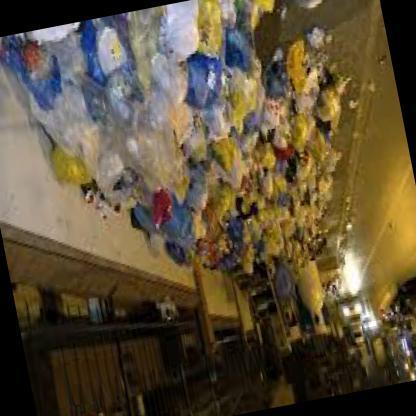Garbage: (16, 0, 343, 204), (114, 15, 374, 258), (100, 40, 218, 173), (201, 142, 329, 260), (238, 69, 348, 198), (68, 13, 147, 88), (33, 90, 95, 160), (53, 148, 112, 200), (184, 44, 228, 110), (236, 0, 283, 46), (316, 76, 348, 124), (298, 173, 332, 215), (168, 204, 200, 248), (286, 0, 341, 24), (217, 133, 244, 179), (238, 227, 262, 263), (276, 202, 292, 232)
